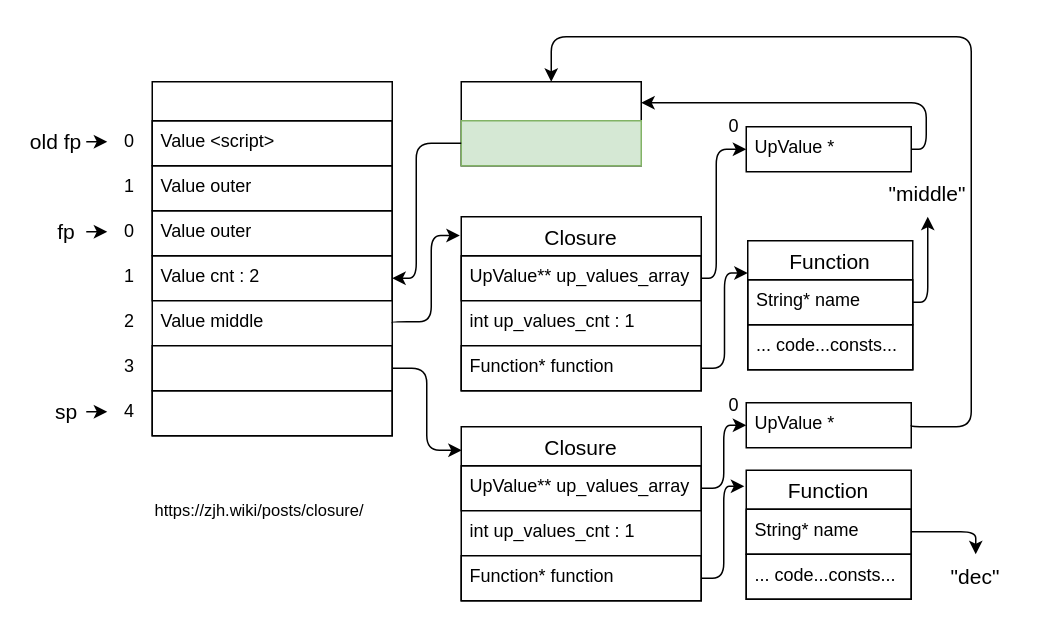
This 1046x632 diagram has some shape labels left out. The shapes that lost their labels are listed below. From the top down, each one's box as (x1, y1, x2, y2) in pixels, then its label:
(460, 80, 641, 166): UpValue
(460, 119, 641, 166): Value* location
(151, 80, 392, 436): stack
(151, 344, 392, 391): Value dec
